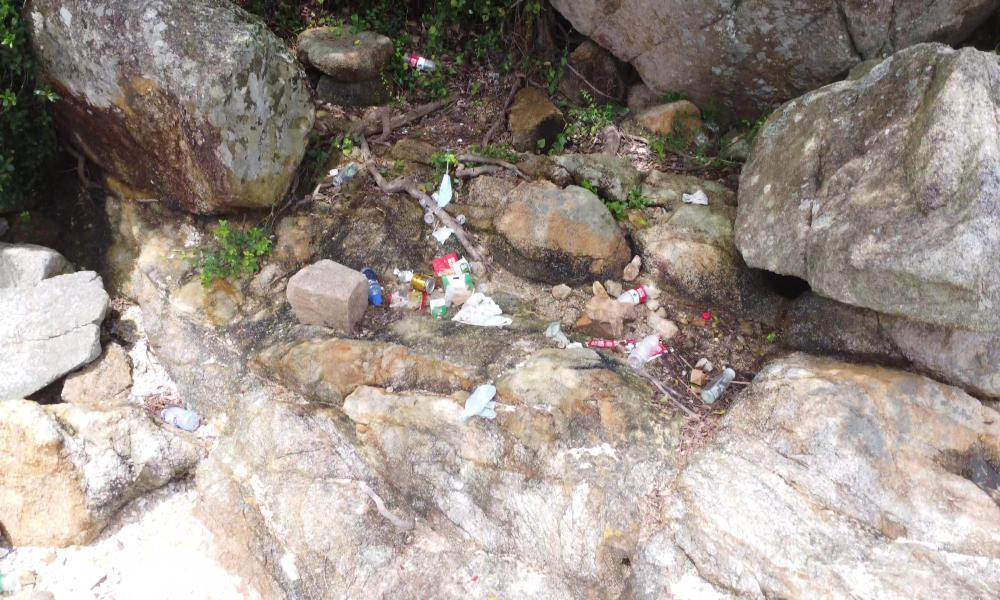can: (407, 268, 437, 294)
plastic bag: (444, 291, 522, 329), (454, 368, 498, 430), (678, 185, 712, 210), (432, 225, 456, 244)
plastic bottle: (698, 361, 744, 406), (620, 330, 666, 371), (158, 401, 200, 433), (326, 153, 364, 186), (612, 282, 653, 310), (400, 54, 456, 72), (363, 263, 383, 307), (422, 208, 439, 228)
